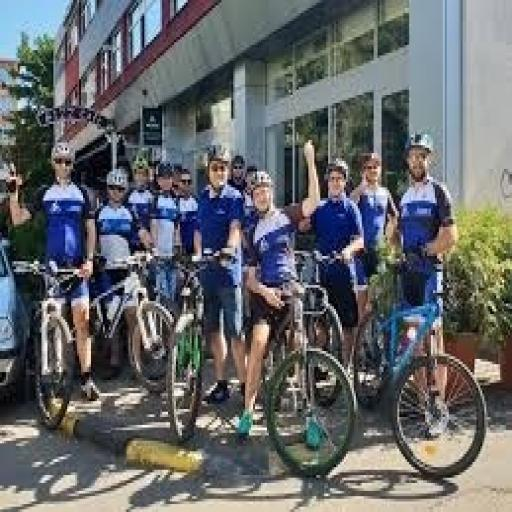cycling: (232, 138, 322, 444), (4, 138, 103, 406), (384, 129, 460, 438), (296, 156, 370, 388), (190, 145, 247, 409), (91, 164, 154, 380)
